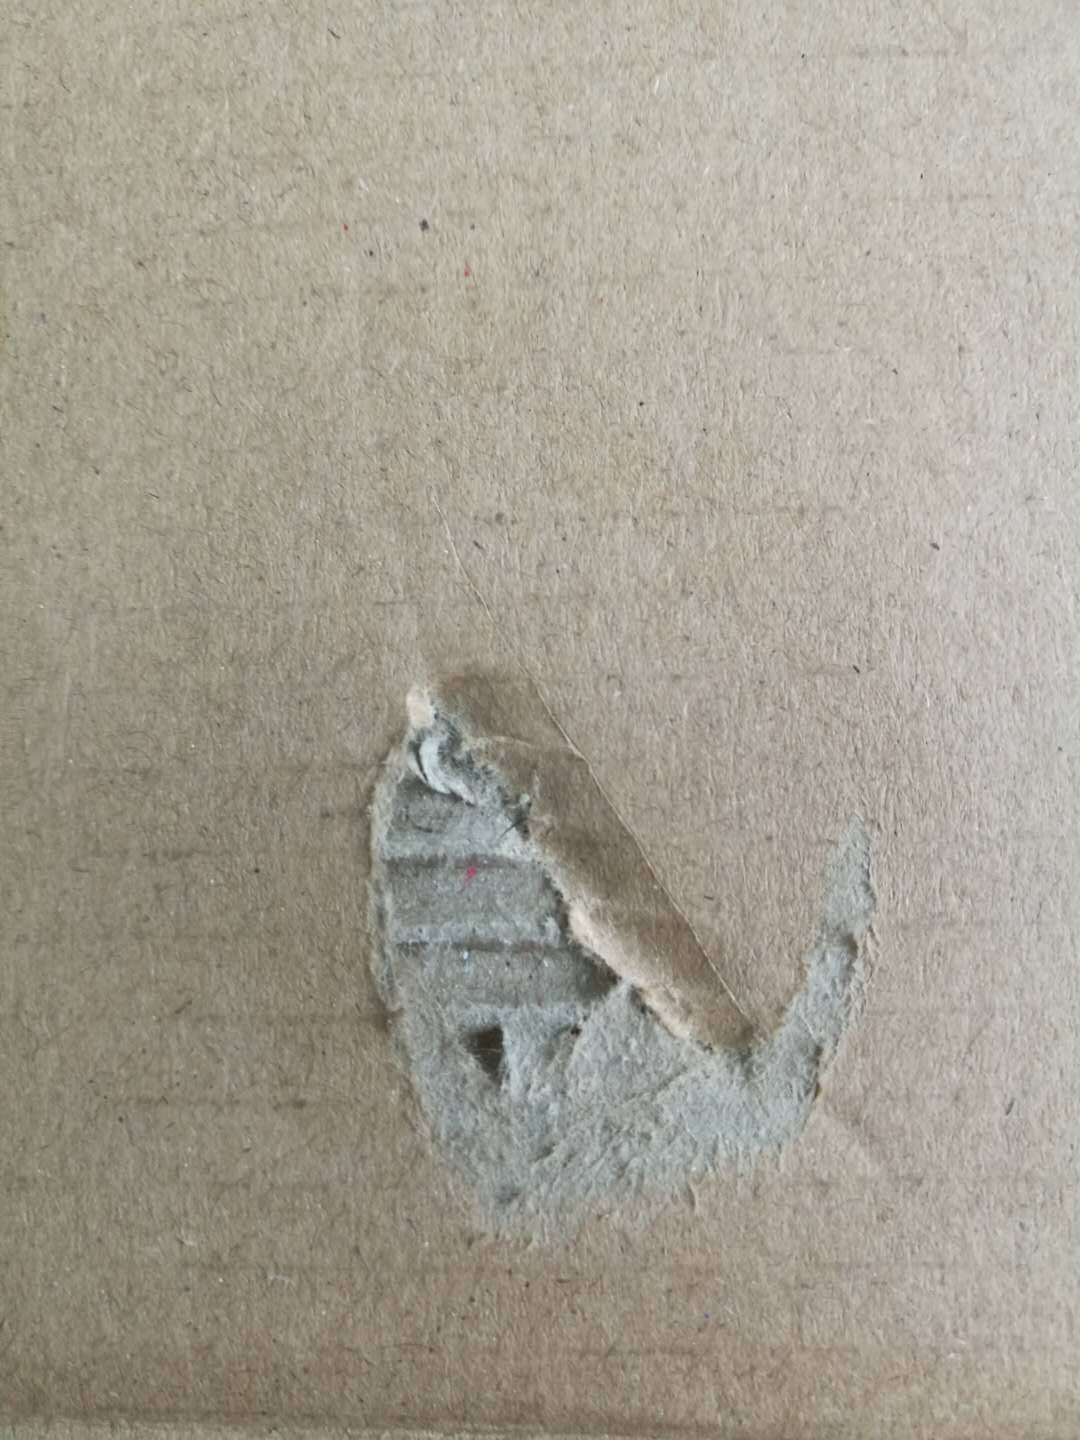defect: (314, 498, 954, 1296)
